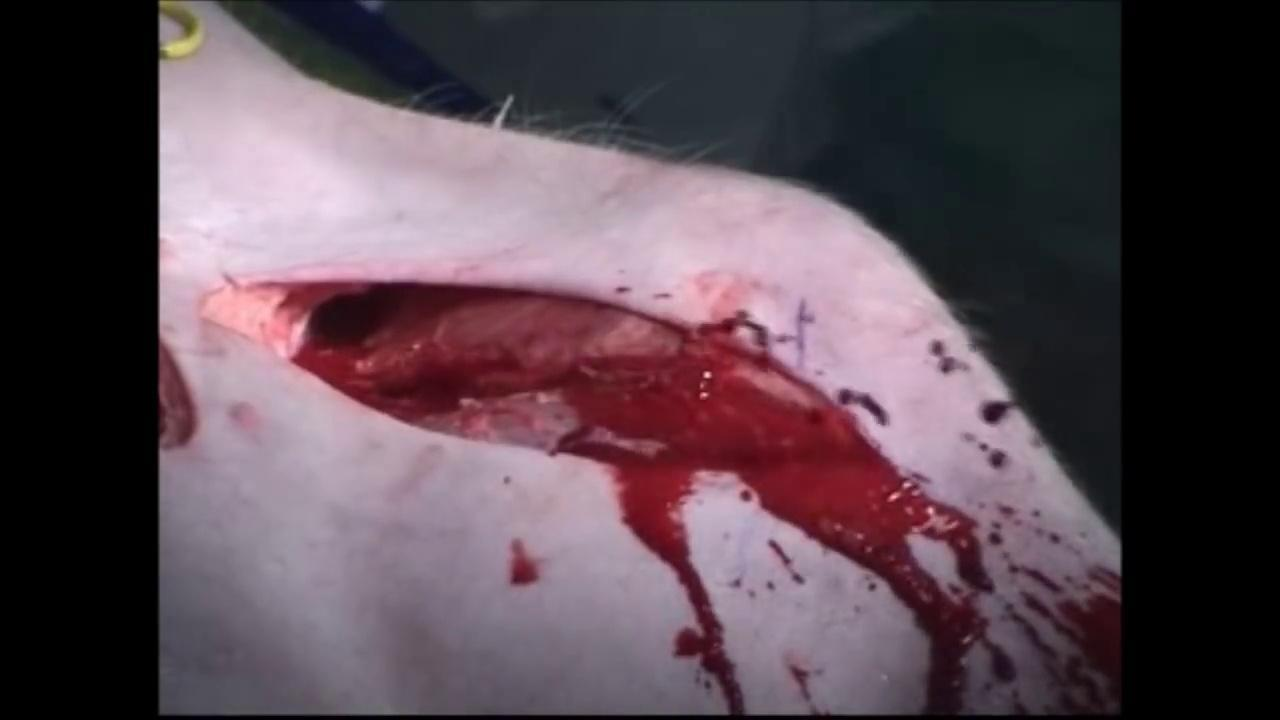Fire: (199, 266, 1122, 714), (712, 481, 867, 715), (510, 538, 540, 586)
